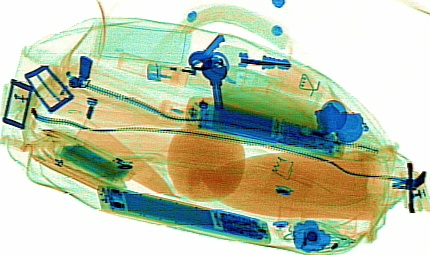lighter: (142, 58, 217, 88)
